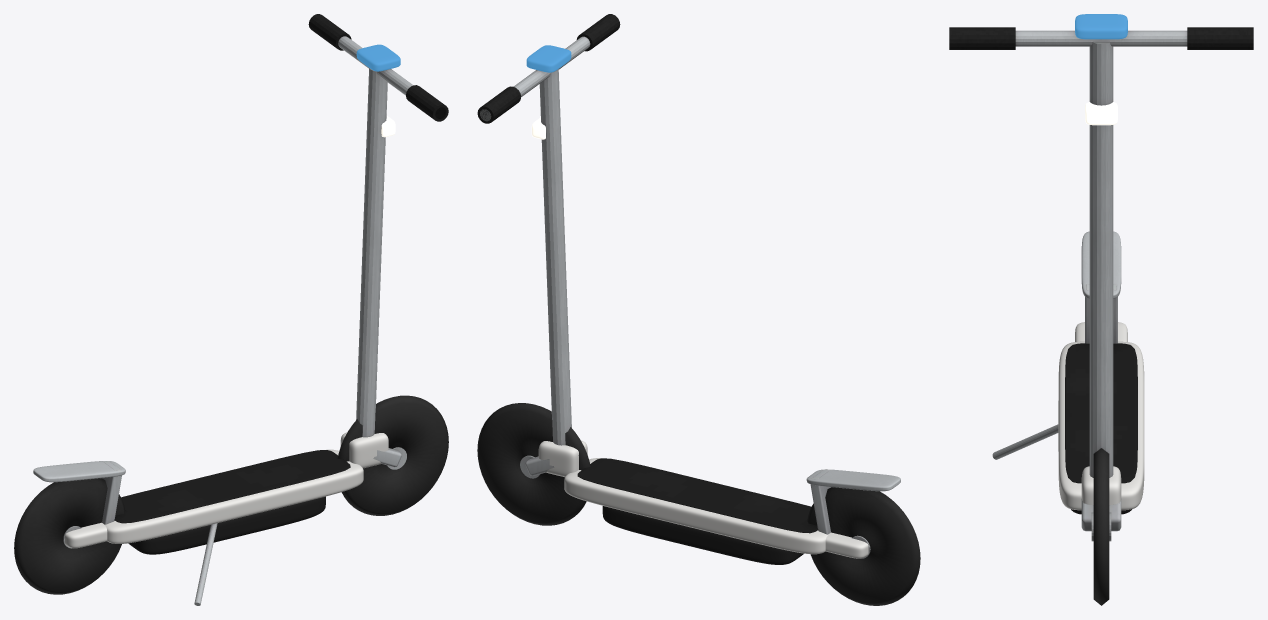
Rendered from electric-white.glb.
The picture shows the model from 3 angles, left to right: view 1: azimuth 30°, elevation 25°; view 2: azimuth 150°, elevation 25°; view 3: azimuth 270°, elevation 25°; orthographic projection. The views are drawn at different scales.
Parts seen in each view (by area): view 1: pu_wheel, aluminium, paint_primary, griptape, battery_black, grip_rubber, screen_on; view 2: pu_wheel, aluminium, paint_primary, griptape, battery_black, grip_rubber, screen_on; view 3: aluminium, griptape, paint_primary, grip_rubber, pu_wheel, screen_on, lamp_head.
Boxes of the visible parts, x1=… form: pu_wheel: x1=14, y1=395, x2=448, y2=594; aluminium: x1=33, y1=36, x2=413, y2=605; paint_primary: x1=65, y1=432, x2=388, y2=548; griptape: x1=114, y1=450, x2=350, y2=523; battery_black: x1=128, y1=496, x2=325, y2=554; grip_rubber: x1=308, y1=14, x2=448, y2=121; screen_on: x1=356, y1=44, x2=400, y2=71; pu_wheel: x1=477, y1=403, x2=920, y2=605; aluminium: x1=480, y1=36, x2=900, y2=558; paint_primary: x1=538, y1=440, x2=868, y2=558; griptape: x1=577, y1=458, x2=818, y2=533; battery_black: x1=602, y1=506, x2=803, y2=564; grip_rubber: x1=477, y1=14, x2=620, y2=123; screen_on: x1=526, y1=45, x2=571, y2=72; aluminium: x1=992, y1=30, x2=1187, y2=541; griptape: x1=1065, y1=343, x2=1137, y2=483; paint_primary: x1=1058, y1=322, x2=1144, y2=510; grip_rubber: x1=949, y1=27, x2=1253, y2=49; pu_wheel: x1=1093, y1=448, x2=1109, y2=605; screen_on: x1=1075, y1=14, x2=1127, y2=39; lamp_head: x1=1085, y1=102, x2=1117, y2=125.
Size of the model in its own units: 0.93 by 0.955 by 0.46.
8 materials, 4 textured.
